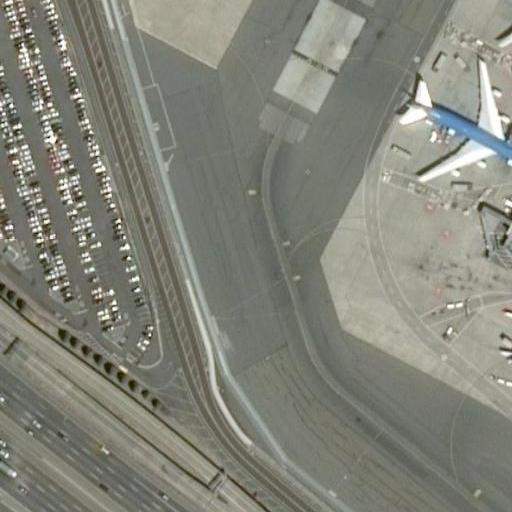Aircraft: (390, 51, 512, 185), (469, 0, 512, 49), (489, 291, 512, 371)
